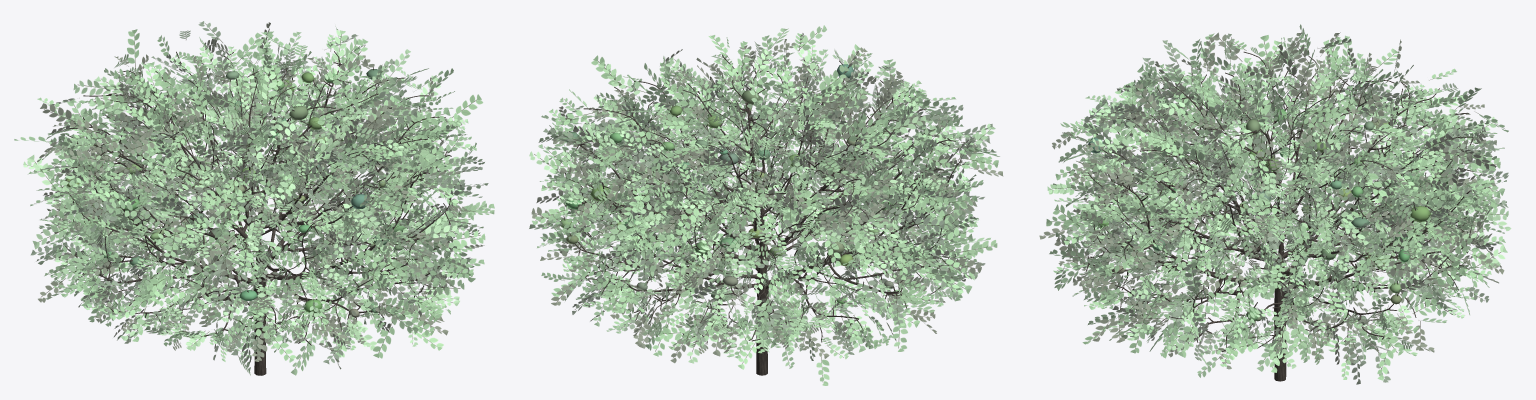
The model's file is tree_23_camphor.glb.
The picture shows the model from 3 angles, left to right: view 1: azimuth 30°, elevation 25°; view 2: azimuth 150°, elevation 25°; view 3: azimuth 270°, elevation 25°; orthographic projection.
Visible parts, largest first — view 1: tree_23_camphor.leaves, tree_23_camphor.trunk_branches, tree_23_camphor.foliage_volume; view 2: tree_23_camphor.leaves, tree_23_camphor.trunk_branches, tree_23_camphor.foliage_volume; view 3: tree_23_camphor.leaves, tree_23_camphor.trunk_branches, tree_23_camphor.foliage_volume.
Part boxes in pixels (box(x1,y1,x2,y2)): tree_23_camphor.leaves: box(14, 21, 494, 375); tree_23_camphor.trunk_branches: box(65, 51, 453, 375); tree_23_camphor.foliage_volume: box(65, 69, 407, 317); tree_23_camphor.leaves: box(529, 25, 1003, 385); tree_23_camphor.trunk_branches: box(563, 54, 961, 375); tree_23_camphor.foliage_volume: box(560, 64, 930, 303); tree_23_camphor.leaves: box(1039, 24, 1511, 384); tree_23_camphor.trunk_branches: box(1083, 51, 1477, 381); tree_23_camphor.foliage_volume: box(1088, 108, 1450, 331).
Size of the model in its own units: 11.98 by 8.15 by 11.92.
Materials: 3 (2 with a texture image).
